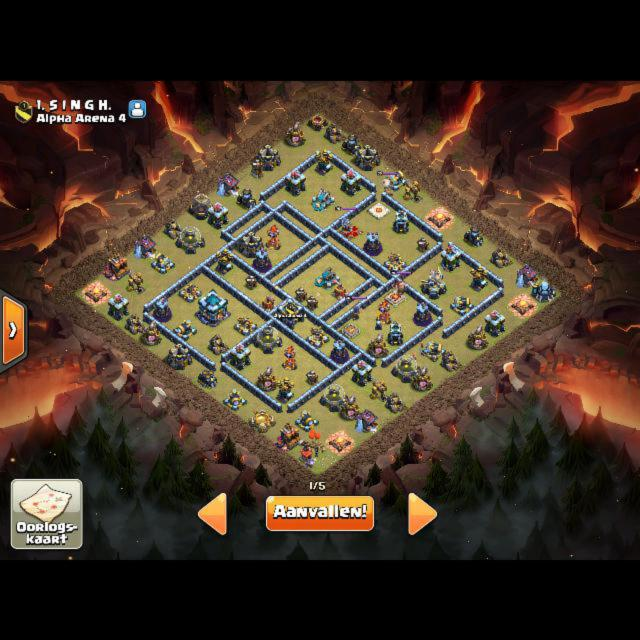AD: (215, 248, 234, 275), (276, 376, 294, 403), (315, 148, 333, 175), (470, 264, 488, 291)
AirSweeper: (332, 278, 349, 300), (259, 294, 275, 312)
BombTower: (388, 320, 403, 345), (394, 209, 409, 233)
Canon: (222, 388, 246, 410), (294, 409, 318, 431), (150, 251, 174, 273), (172, 319, 196, 340), (422, 340, 446, 361), (383, 170, 407, 191), (449, 294, 473, 315)
ClanCastle: (277, 297, 303, 328)
Eagle: (420, 266, 446, 299)
Inferno: (266, 225, 281, 250), (282, 345, 297, 369), (376, 299, 390, 323)
KingPad: (385, 289, 406, 305)
Mortar: (341, 133, 362, 155), (463, 225, 484, 247), (236, 187, 256, 209), (197, 368, 218, 388)
QueenPad: (340, 222, 362, 238)
RcPad: (341, 324, 359, 337)
Scattershot: (314, 266, 340, 289), (312, 188, 334, 211)
TH13: (197, 289, 227, 326)
WardenPad: (369, 202, 389, 216)
WizzTower: (330, 339, 348, 363), (363, 231, 381, 255), (253, 247, 271, 271), (152, 297, 170, 321), (413, 301, 431, 325)
Xbow: (305, 325, 329, 347), (383, 251, 407, 273), (233, 315, 257, 336), (179, 282, 202, 302)
